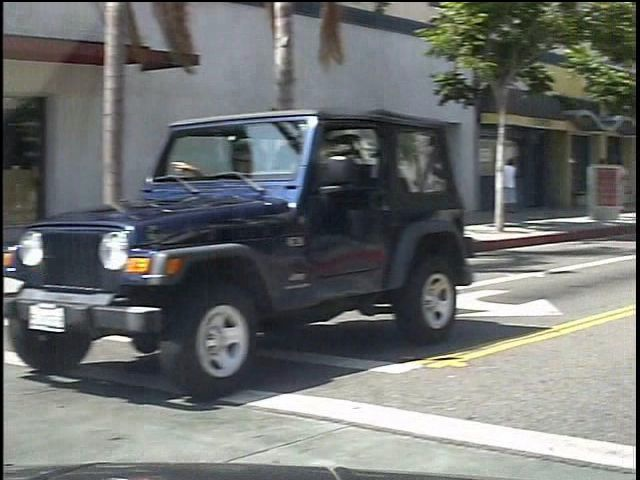person: (516, 149, 540, 231)
